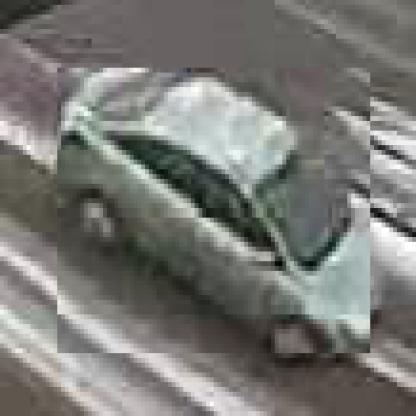car: (58, 69, 375, 359)
